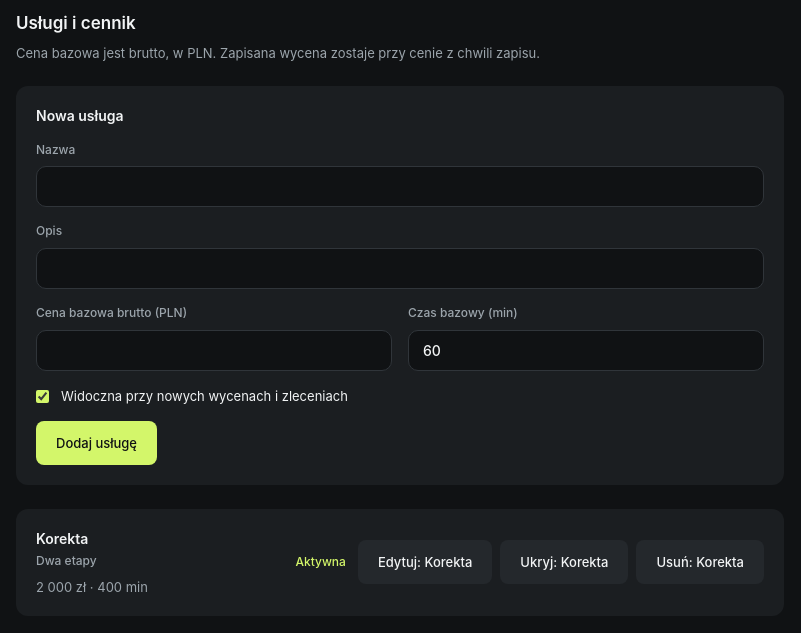
Test: lists the gross price and hides a service without dropping the row
Check: the text "2 000 zł · 400 min" is shown, box [36,578,148,594]
Step 1. Click the button "Ukryj: Korekta" → x=564, y=562, box [500,540,628,584]
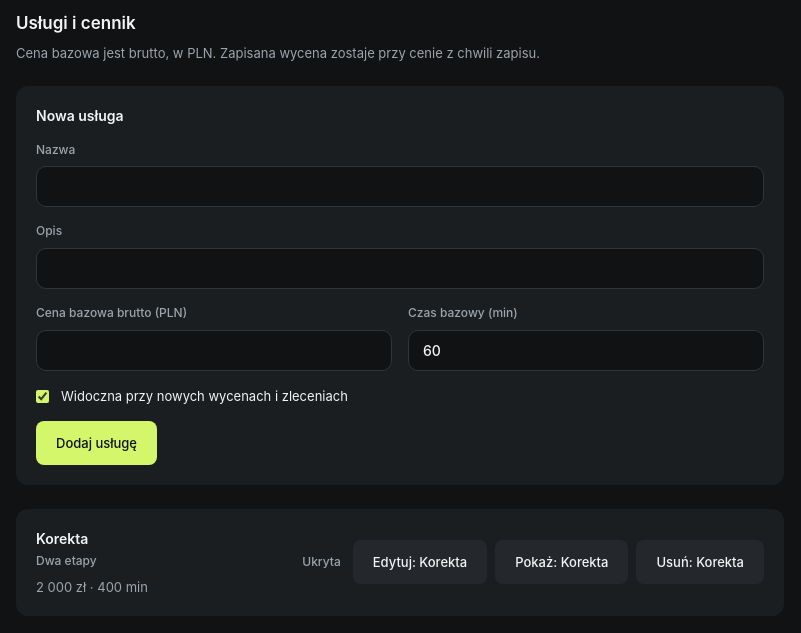
Check: the text "Ukryta" is shown, box [302,554,341,571]
Check: the button "Pokaż: Korekta" is shown, box [495,540,628,584]
